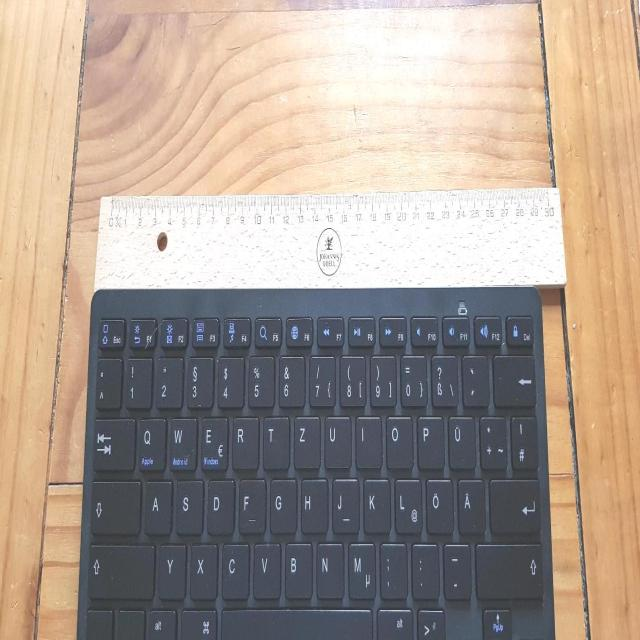0: (399, 351, 427, 406)
1: (124, 354, 151, 408)
2: (154, 353, 182, 407)
3: (185, 352, 213, 407)
4: (216, 352, 243, 406)
5: (247, 351, 274, 406)
6: (277, 352, 304, 406)
7: (307, 352, 335, 405)
8: (337, 352, 365, 406)
9: (368, 351, 395, 406)
a: (143, 477, 171, 534)
accent: (460, 352, 488, 405)
ae: (456, 475, 484, 533)
alt-left: (144, 609, 178, 639)
altgr-right: (376, 608, 413, 640)
b: (283, 538, 312, 598)
c: (220, 539, 249, 599)
caret: (94, 354, 121, 408)
comma: (378, 537, 406, 597)
d: (206, 476, 234, 534)
del: (492, 351, 536, 406)
e: (200, 412, 228, 470)
enter: (488, 476, 541, 534)
f: (237, 475, 265, 533)
g: (268, 475, 296, 533)
h: (299, 475, 327, 533)
hash: (509, 412, 538, 470)
i: (354, 412, 381, 467)
j: (331, 474, 358, 532)
k: (362, 475, 389, 533)
keyboard: (77, 281, 557, 639)
l: (394, 476, 422, 534)
less: (416, 609, 445, 640)
m: (346, 538, 375, 599)
minus: (441, 539, 470, 599)
n: (314, 538, 343, 598)
o: (384, 413, 412, 468)
oe: (424, 476, 453, 534)
p: (415, 412, 443, 469)
plus: (478, 411, 506, 469)
point: (410, 539, 438, 598)
q: (136, 414, 165, 471)
r: (231, 414, 258, 470)
s: (174, 476, 202, 534)
shift-left: (87, 539, 154, 598)
shift-lock: (89, 478, 140, 533)
shift-right: (474, 540, 543, 598)
space: (218, 606, 373, 640)
ss: (429, 352, 457, 405)
t: (261, 413, 288, 468)
tab: (92, 414, 135, 471)
u: (323, 412, 351, 469)
ue: (446, 411, 474, 469)
v: (252, 537, 280, 597)
w: (168, 413, 196, 471)
x: (188, 539, 216, 599)
y: (157, 539, 185, 598)
z: (292, 412, 319, 468)
